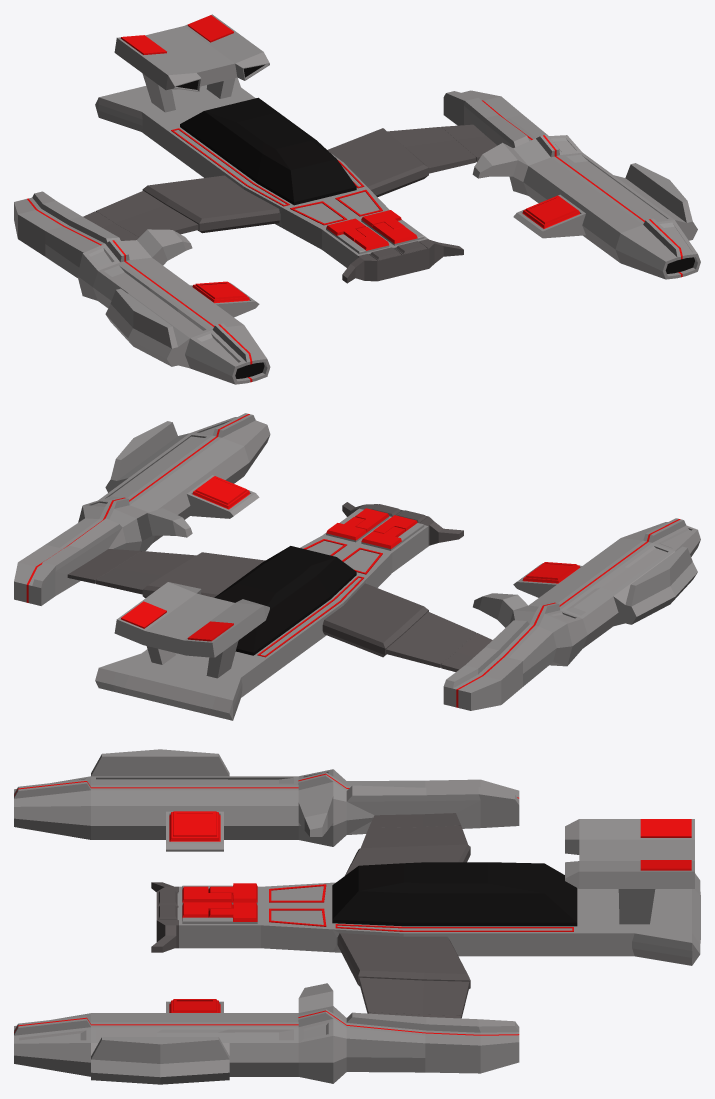
File: Spaceships01.fbx
3 views of the same model, one above another, from view 1: azimuth 30°, elevation 25°; view 2: azimuth 150°, elevation 25°; view 3: azimuth 270°, elevation 25° (orthographic). The views are drawn at different scales.
Visible parts, largest first — view 1: Cube; view 2: Cube; view 3: Cube.
Boxes of the visible parts, box(x1,y1,x2,y2) form: Cube: box(14, 14, 700, 384); Cube: box(14, 413, 700, 720); Cube: box(14, 749, 700, 1084).
Bounding box in the file's own units: 1101 × 190 × 1061.
